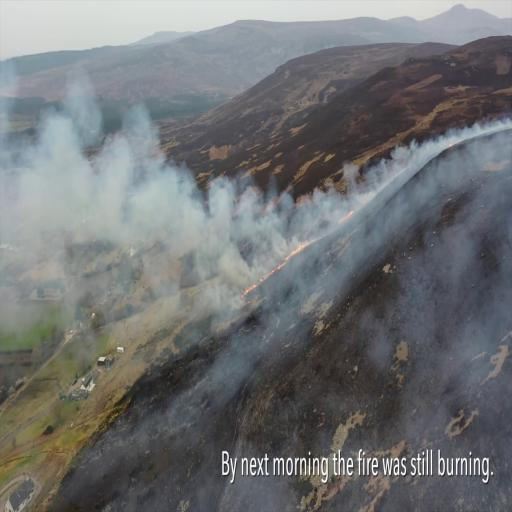smoke: (6, 71, 96, 230), (94, 122, 156, 232), (161, 173, 201, 258), (203, 184, 252, 253), (354, 158, 400, 226), (249, 200, 297, 262), (294, 192, 342, 252), (403, 147, 444, 212), (451, 130, 483, 185)
